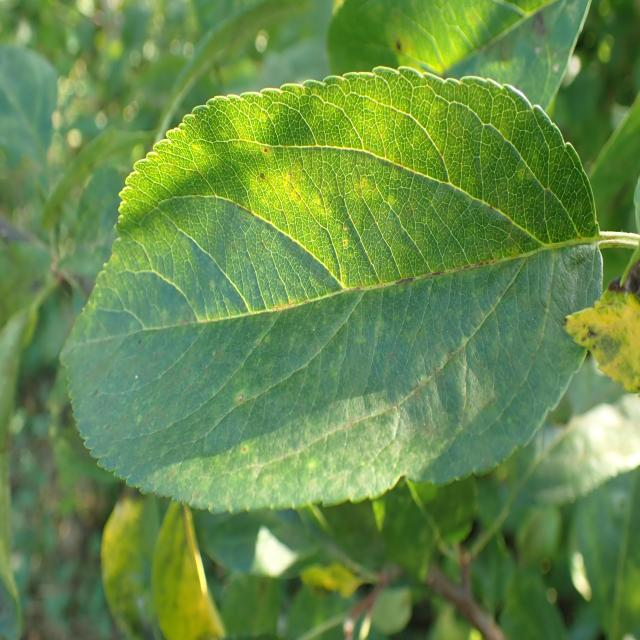scab: (98, 101, 583, 476), (326, 0, 604, 127)
